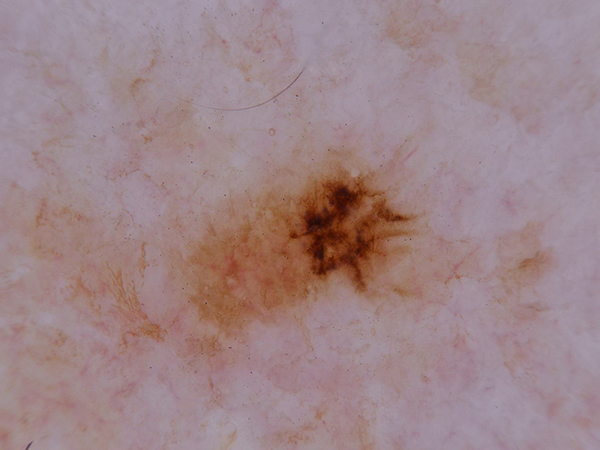Detected Lesion: (180, 157, 406, 362)
